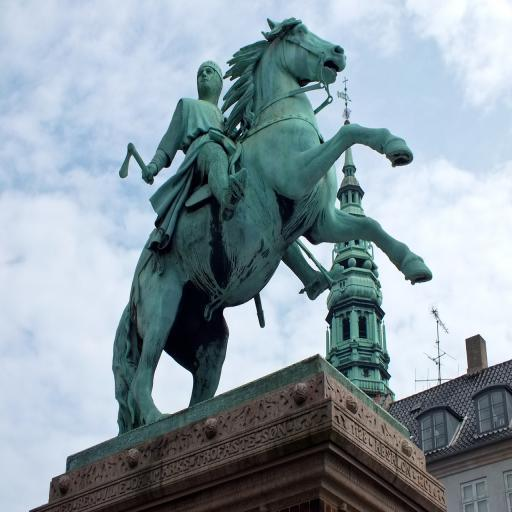horse: (114, 15, 432, 435)
